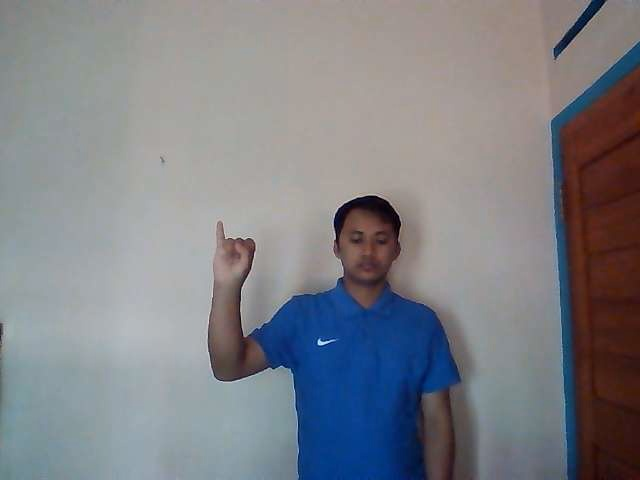I: (212, 220, 256, 284)
